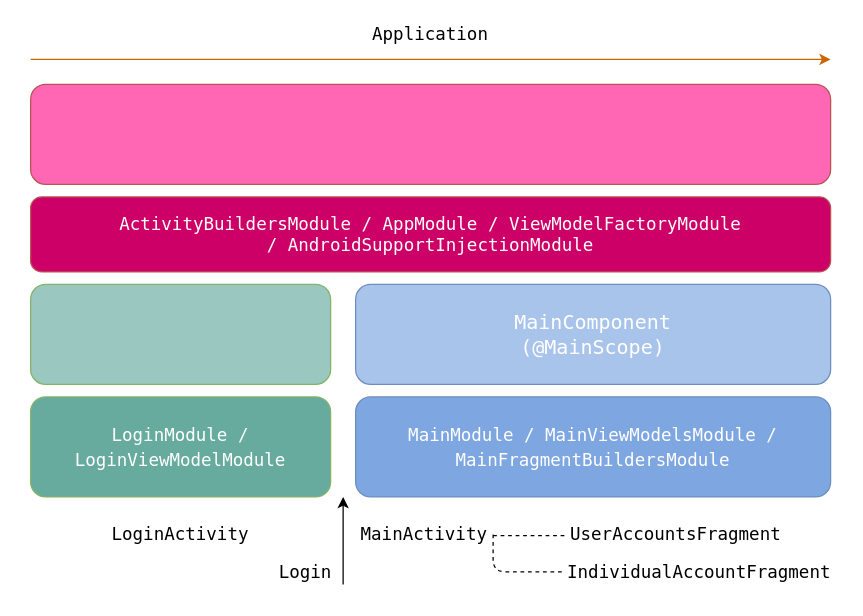
Some shapes in this 863 by 616 pixel diagram are drawn without their labels. Here are the shapes that lost their labels. From the top down, the box of each, then its label:
(29, 83, 831, 184): AppComponent (@Singleton)
(29, 283, 331, 384): LoginComponent (@LoginScope)
